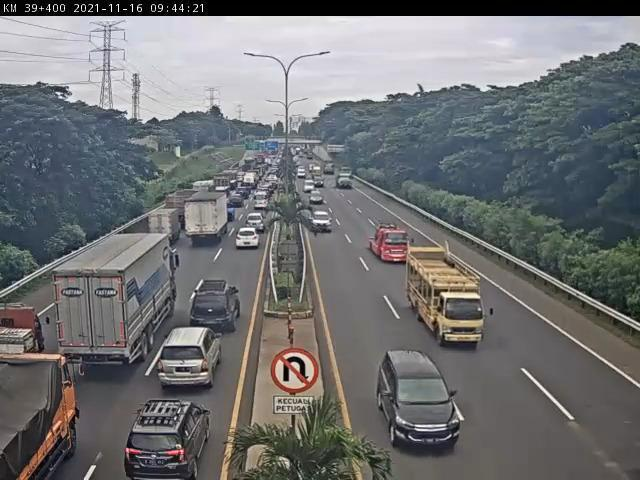car: (382, 353, 462, 447), (130, 392, 202, 474), (158, 327, 222, 392), (193, 277, 238, 334), (233, 229, 266, 254), (239, 216, 267, 230), (314, 212, 333, 230), (253, 196, 270, 212), (228, 194, 242, 212), (310, 191, 325, 203), (304, 179, 316, 192), (314, 174, 324, 188), (298, 166, 306, 177), (312, 165, 319, 170)
truck: (51, 233, 181, 365), (1, 355, 77, 480), (406, 244, 493, 347), (184, 190, 231, 245), (374, 223, 410, 263), (142, 211, 178, 245), (336, 168, 355, 192), (323, 163, 336, 176)
